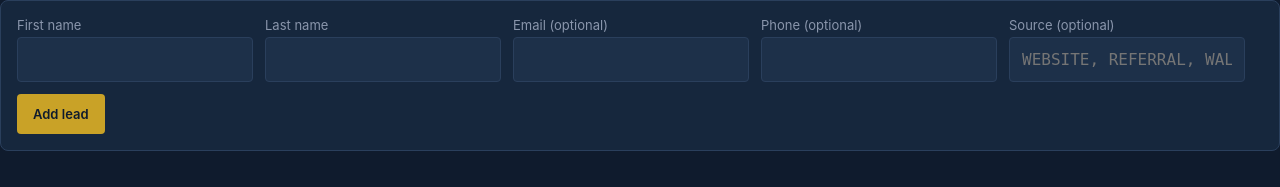
Scenario: CreateLeadForm › blocks submission and shows per-field errors when required fields are left blank
Click the button "Add lead" at {"x": 61, "y": 114}, box [17, 94, 105, 134]
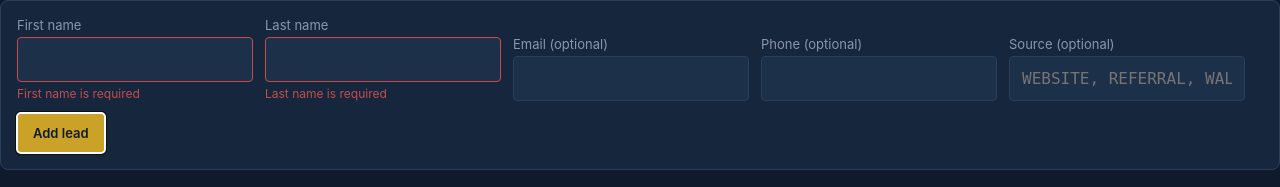
Result: the text "First name is required" is shown at [17, 86, 140, 101]
Result: the text "Last name is required" is shown at [265, 86, 387, 101]
